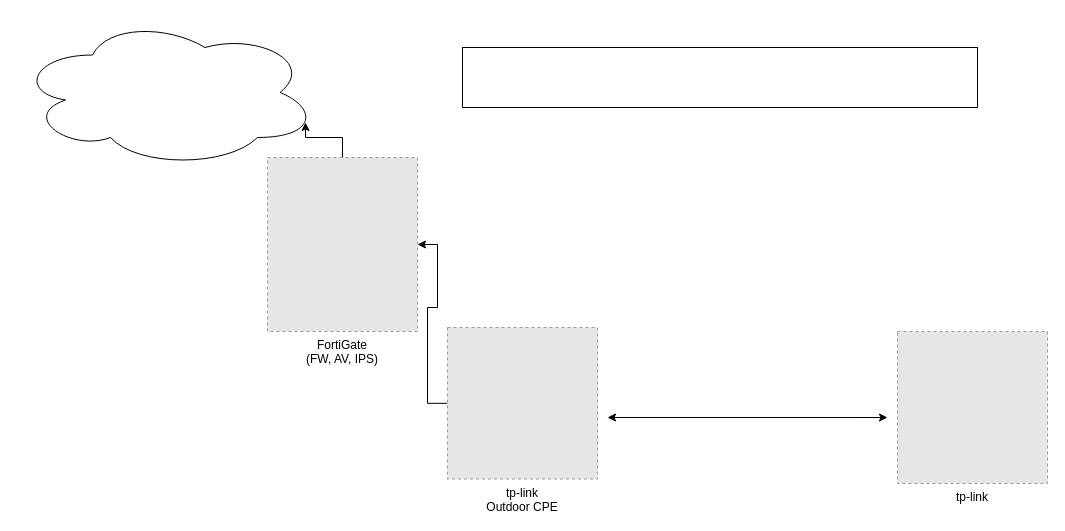
This 1065x531 diagram has some shape labels left out. Grey dashed boxes stand in for pictures. Here are the shapes that lost their labels. From the top down, the box of each, then its label:
(16, 16, 318, 168): Public Internet
(462, 46, 978, 108): SSID: DrillerNet Password: topDamThankyouMaam
